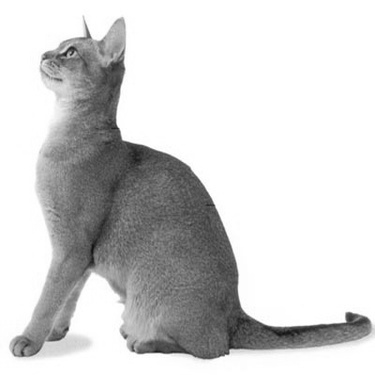cat: (8, 7, 372, 355)
